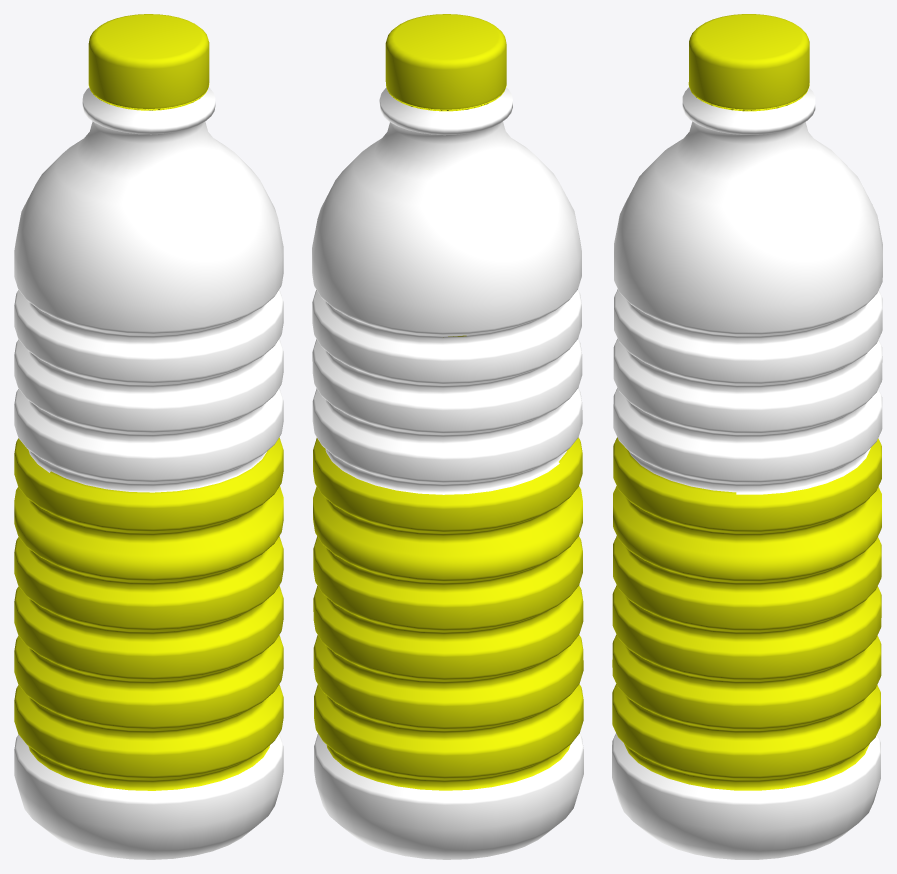
Rendered from plastic_water_bottle.glb.
3 renders of one model, left to right at view 1: azimuth 30°, elevation 25°; view 2: azimuth 150°, elevation 25°; view 3: azimuth 270°, elevation 25°, orthographic.
Visible parts, largest first — view 1: Object_2; view 2: Object_2; view 3: Object_2.
Boxes of the visible parts, x1,y1,x2,y2 form: Object_2: [14, 14, 283, 859]; Object_2: [312, 14, 583, 859]; Object_2: [612, 14, 882, 859].
Bounding box in the file's own units: 9.02 × 28.91 × 9.04.
